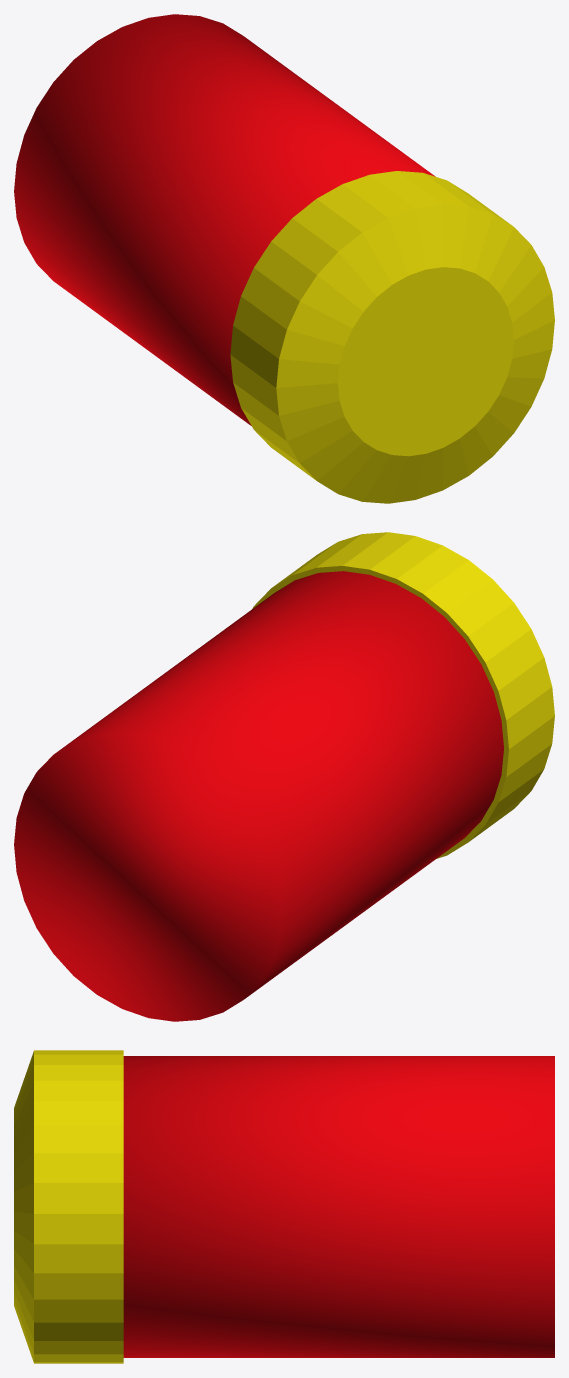
Rendered from Spread.fbx.
3 views of the same model, one above another, from view 1: azimuth 30°, elevation 25°; view 2: azimuth 150°, elevation 25°; view 3: azimuth 270°, elevation 25° (orthographic). The views are drawn at different scales.
Visible parts, largest first — view 1: Cylinder, Cylinder.001; view 2: Cylinder, Cylinder.001; view 3: Cylinder, Cylinder.001.
Part boxes in pixels (<box>): Cylinder: <box>14,14,435,425</box>; Cylinder.001: <box>230,171,554,503</box>; Cylinder: <box>14,571,503,1021</box>; Cylinder.001: <box>252,532,554,858</box>; Cylinder: <box>123,1056,554,1357</box>; Cylinder.001: <box>14,1050,123,1363</box>.
Bounding box in the file's own units: 207 × 207 × 358.
